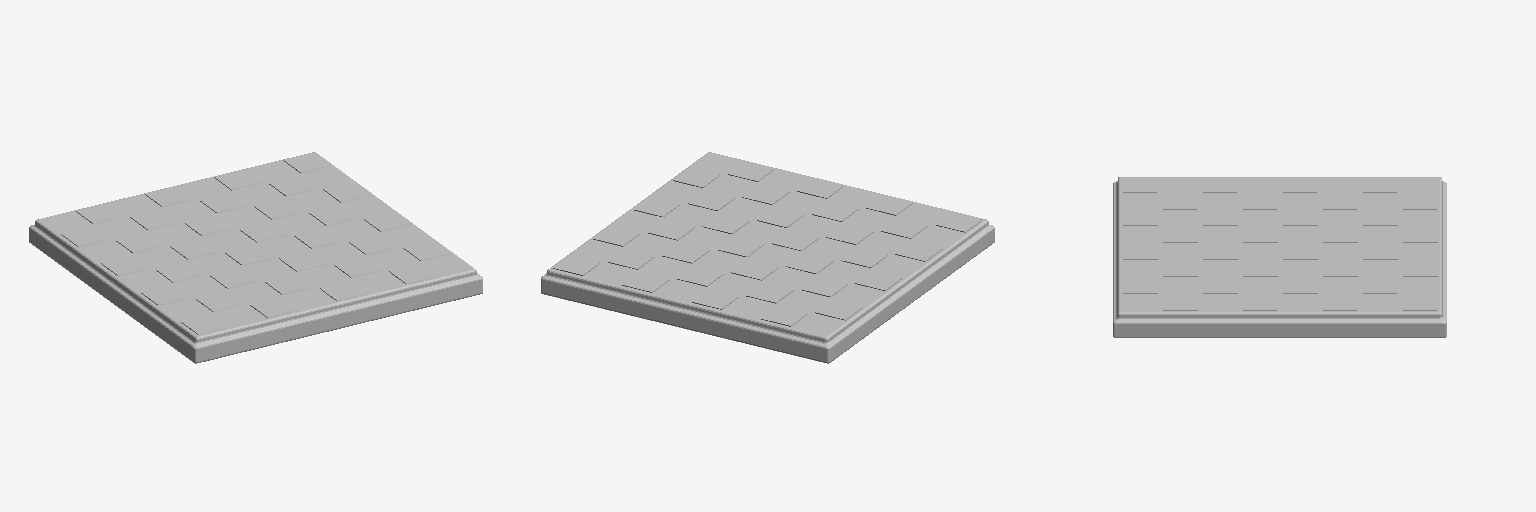
File: board.obj
The picture shows the model from 3 angles: view 1: azimuth 30°, elevation 25°; view 2: azimuth 150°, elevation 25°; view 3: azimuth 270°, elevation 25°; orthographic projection.
Visible parts, largest first — view 1: Chess_Board_Plane.001; view 2: Chess_Board_Plane.001; view 3: Chess_Board_Plane.001.
Part boxes in pixels (left/top/right/bottom): Chess_Board_Plane.001: left=29, top=152, right=482, bottom=363; Chess_Board_Plane.001: left=541, top=152, right=994, bottom=363; Chess_Board_Plane.001: left=1113, top=177, right=1446, bottom=337.
Size of the model in its own units: 24.51 by 2.03 by 24.51.